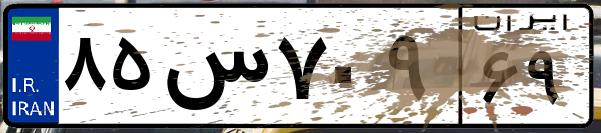0: (330, 28, 385, 110)
5: (110, 28, 158, 98)
6: (475, 38, 525, 113)
7: (270, 28, 330, 110)
8: (57, 26, 110, 100)
9: (385, 28, 445, 110), (525, 38, 570, 115)
س: (158, 20, 270, 120)
